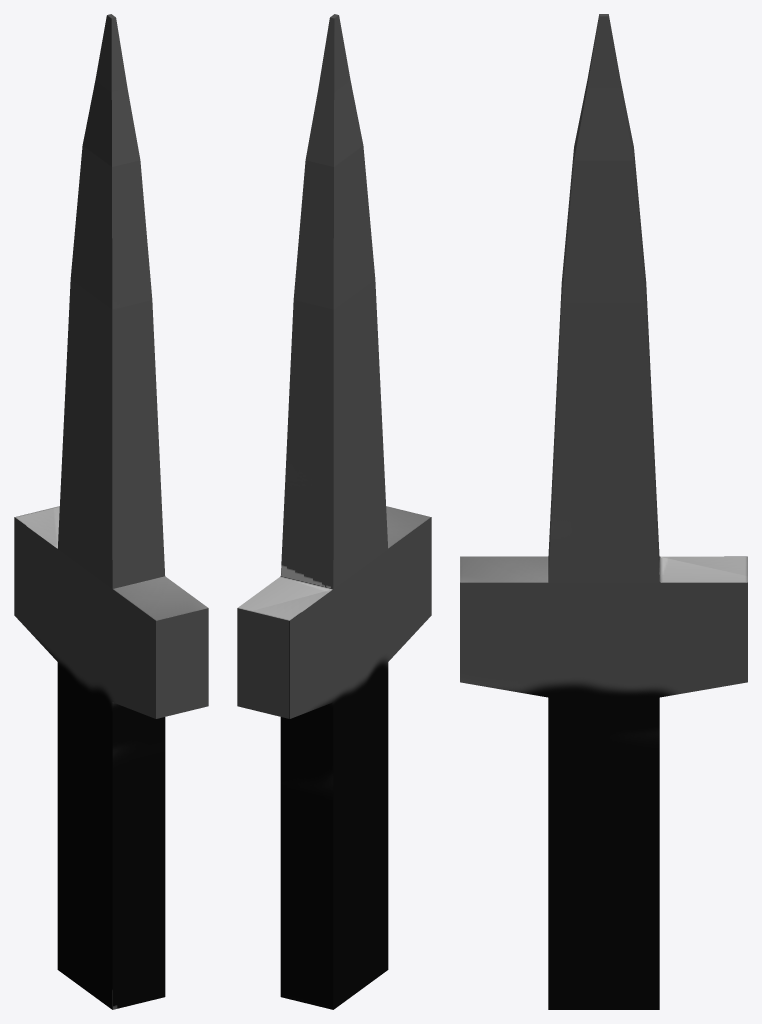
Rendered from kılıç2.fbx.
The picture shows the model from 3 angles, left to right: view 1: azimuth 30°, elevation 25°; view 2: azimuth 150°, elevation 25°; view 3: azimuth 270°, elevation 25°; orthographic projection.
Visible parts, largest first — view 1: Cube; view 2: Cube; view 3: Cube.
Boxes of the visible parts, box(x1,y1,x2,y2) form: Cube: box(14, 14, 208, 1009); Cube: box(237, 14, 431, 1009); Cube: box(460, 14, 747, 1009).
Size of the model in its own units: 5.97 by 105 by 27.83.
